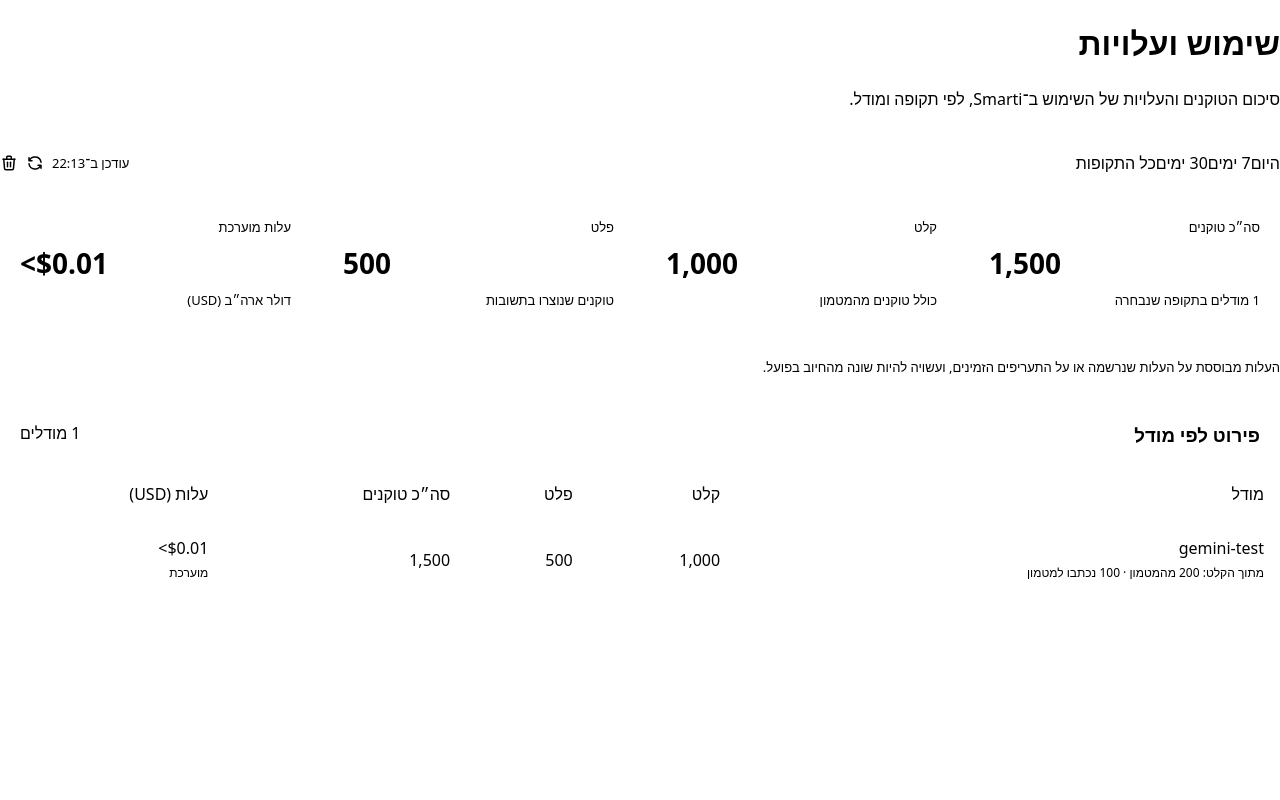
Test case: usage loading through the desktop API › reports clear failure and preserves the confirmation for retry
Expected: the text "gemini-test" is shown, x1=1179 y1=537 x2=1264 y2=559
Click the button named "ניקוי נתונים" at (9, 163), box x1=0 y1=154 x2=18 y2=172
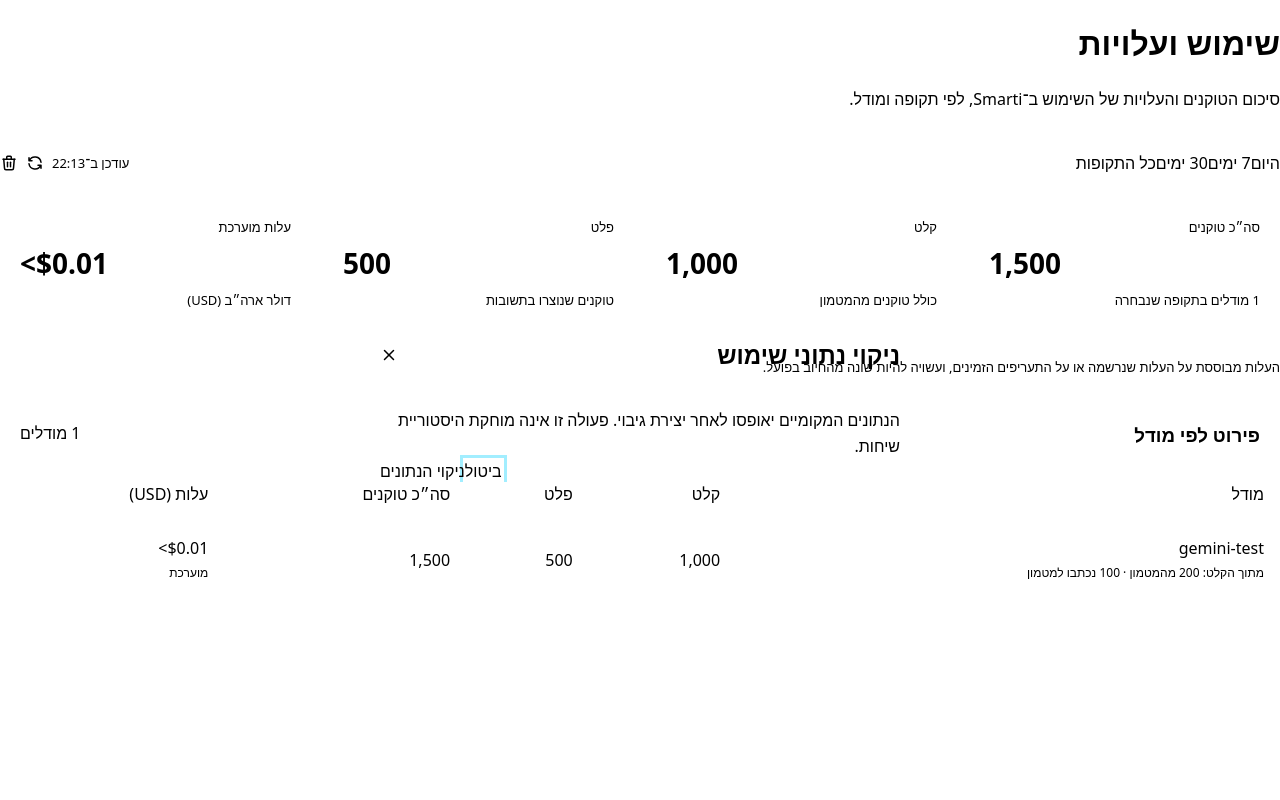
Click the button "ניקוי הנתונים" at (422, 471), box x1=380 y1=460 x2=465 y2=482
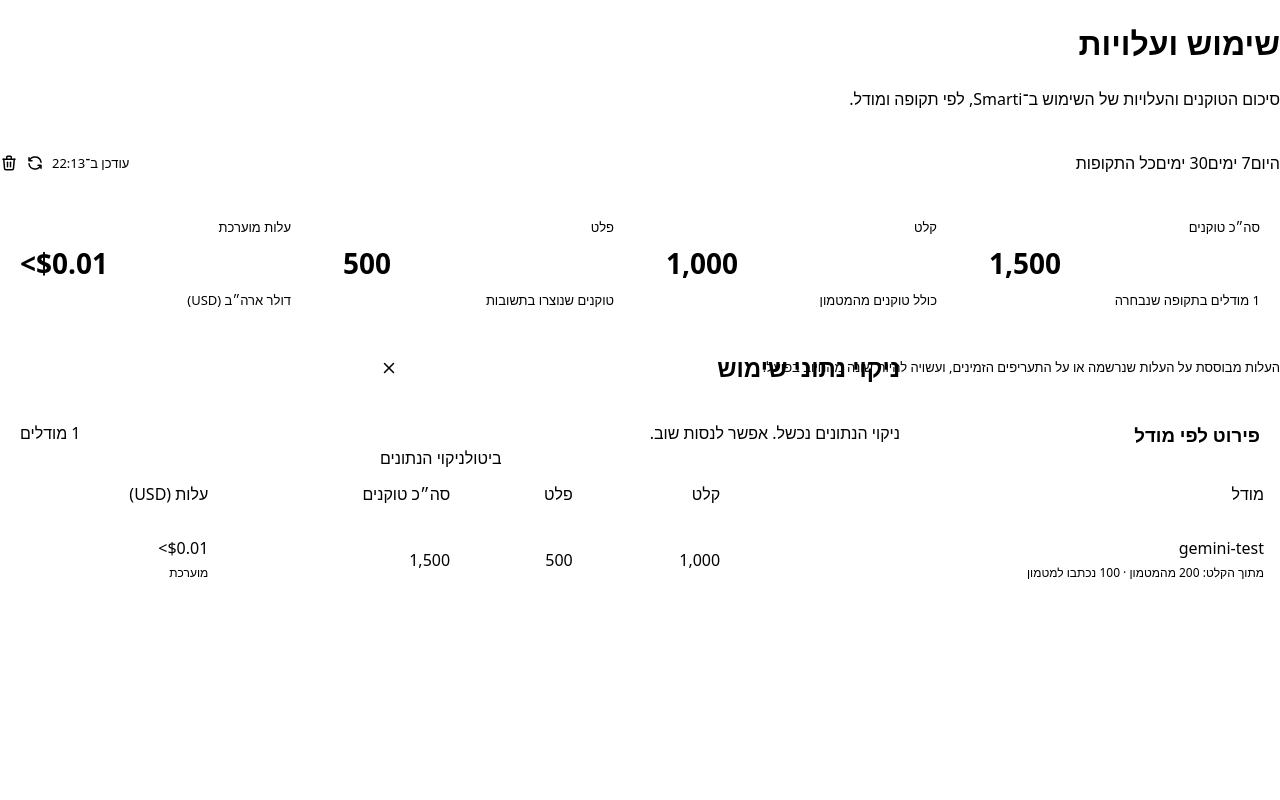
Result: the dialog is shown at x1=380 y1=331 x2=900 y2=469
Result: the text "ניקוי הנתונים נכשל. אפשר לנסות שוב." is shown at x1=650 y1=422 x2=900 y2=444
